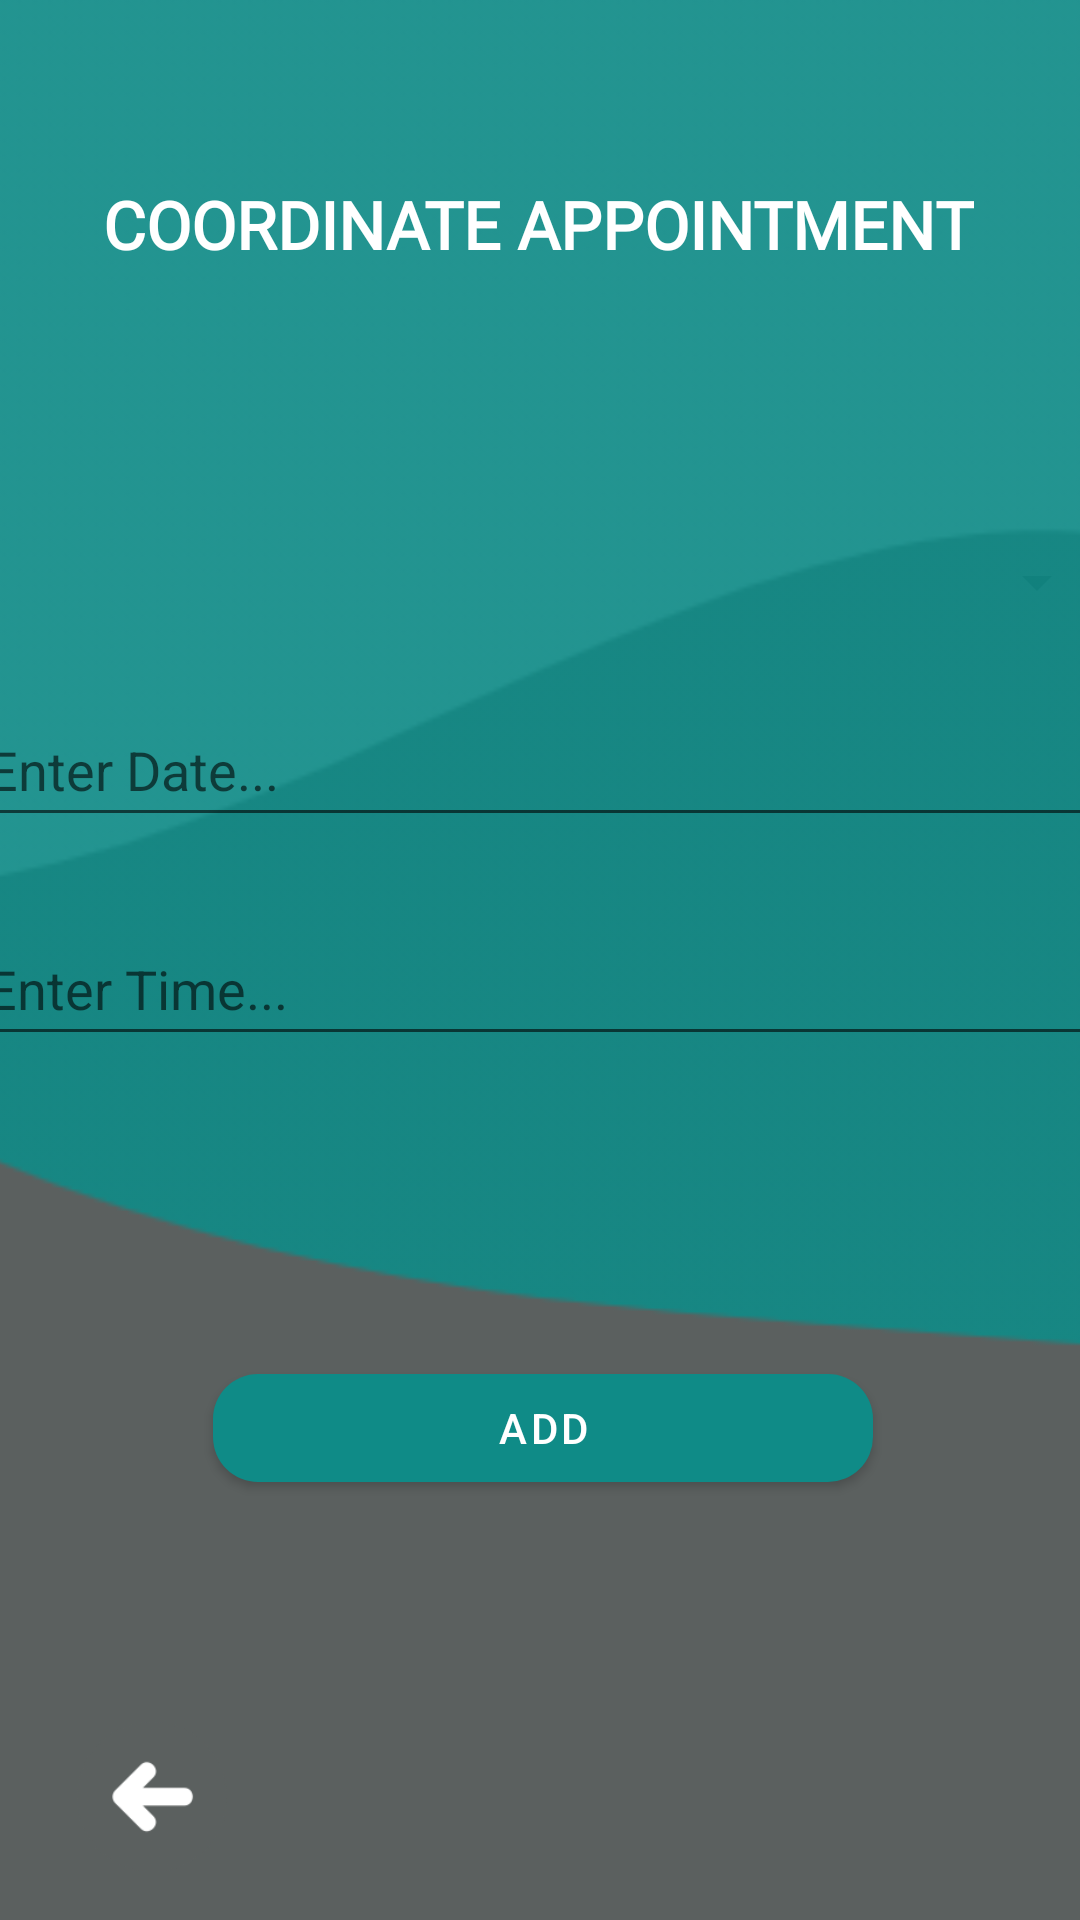

Named icons in this screenshot (1080×1920) and their bounding boxes, (x1, y1, x2, y2):
previous: (112, 1762, 193, 1832)
